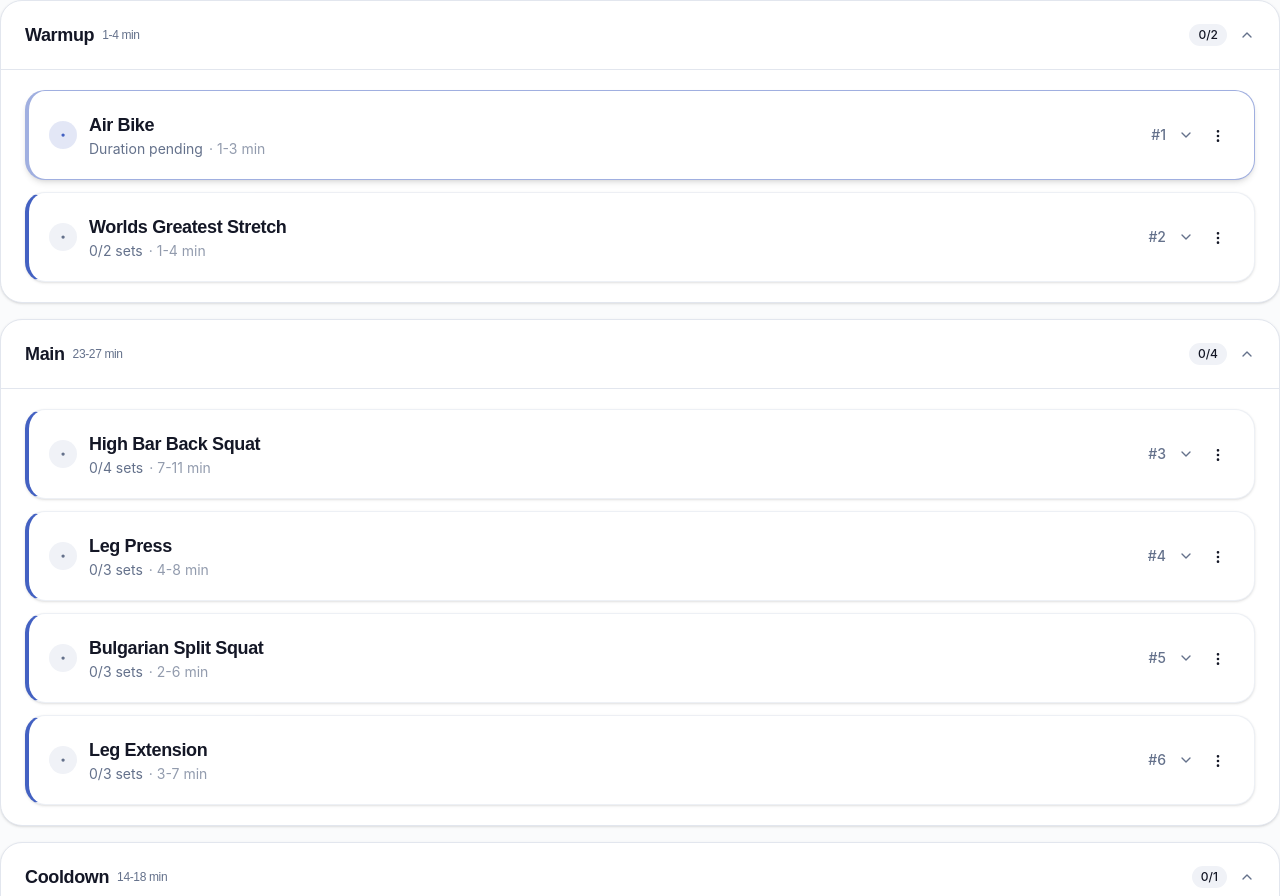
SessionExerciseList › still renders template form cues and omits injury warnings when enhanced injury data is unavailable
Expected: the element "High Bar Back Squat" is shown, top-left (25, 409), bottom-right (1255, 499)
Step 1. Click the button "High Bar Back Squat 0/4 sets· 7-11 min #3" → {"x": 175, "y": 444}, box top-left (49, 434), bottom-right (1234, 476)
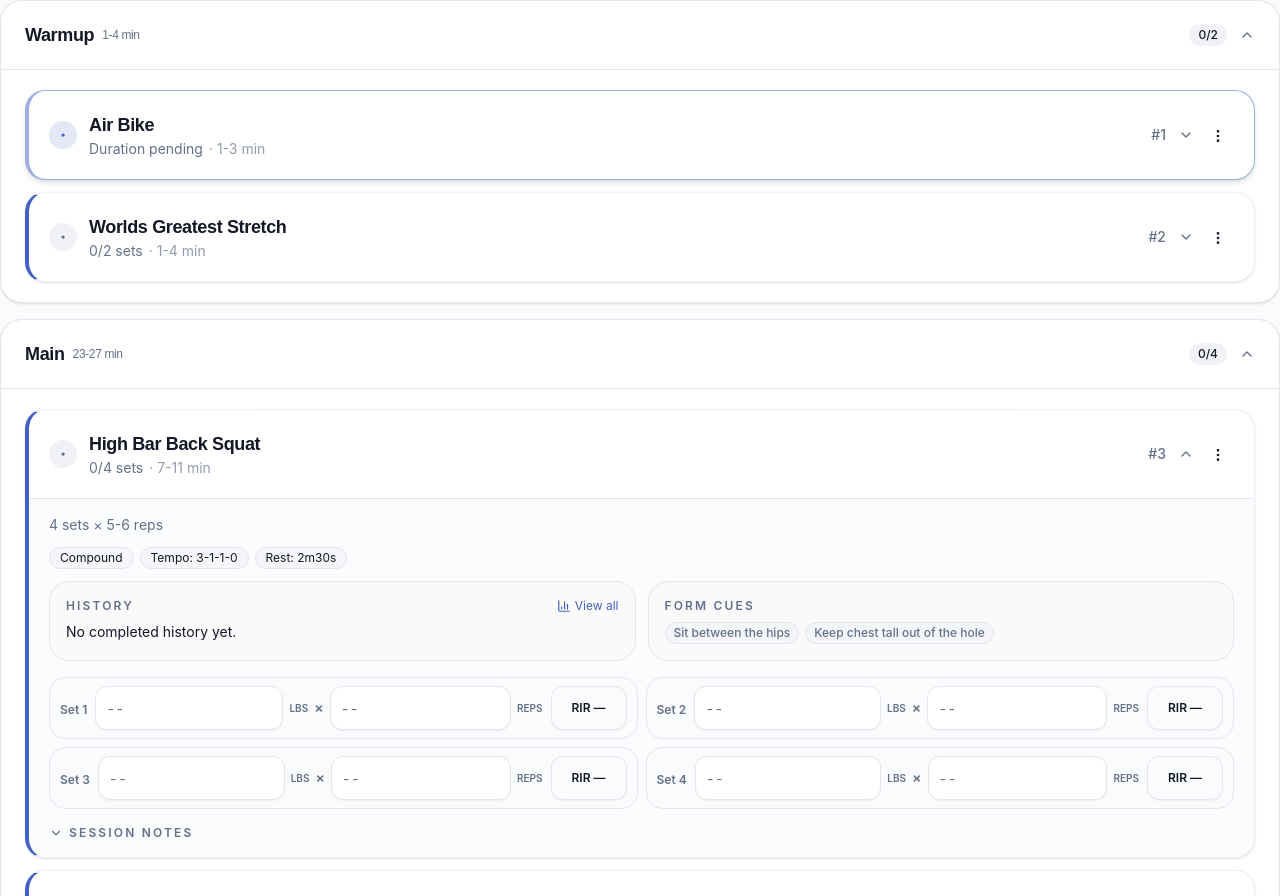
Expected: the text "Form cues" is shown, top-left (664, 598), bottom-right (755, 613)
Expected: the text "4 sets × 5-6 reps" is shown, top-left (49, 516), bottom-right (163, 533)
